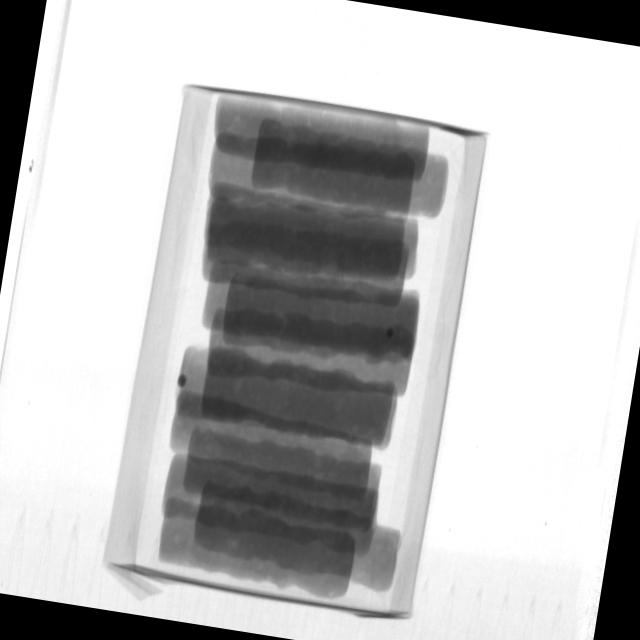ym: (177, 373, 188, 387), (388, 328, 397, 339)
